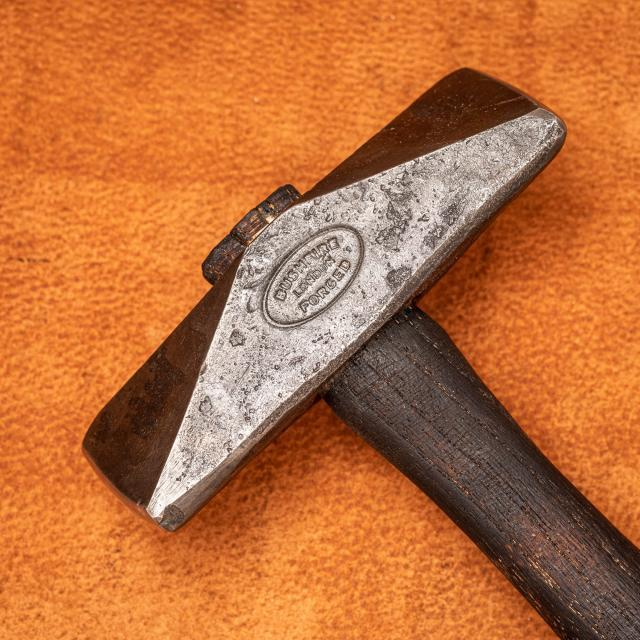hammer: (70, 62, 639, 640)
